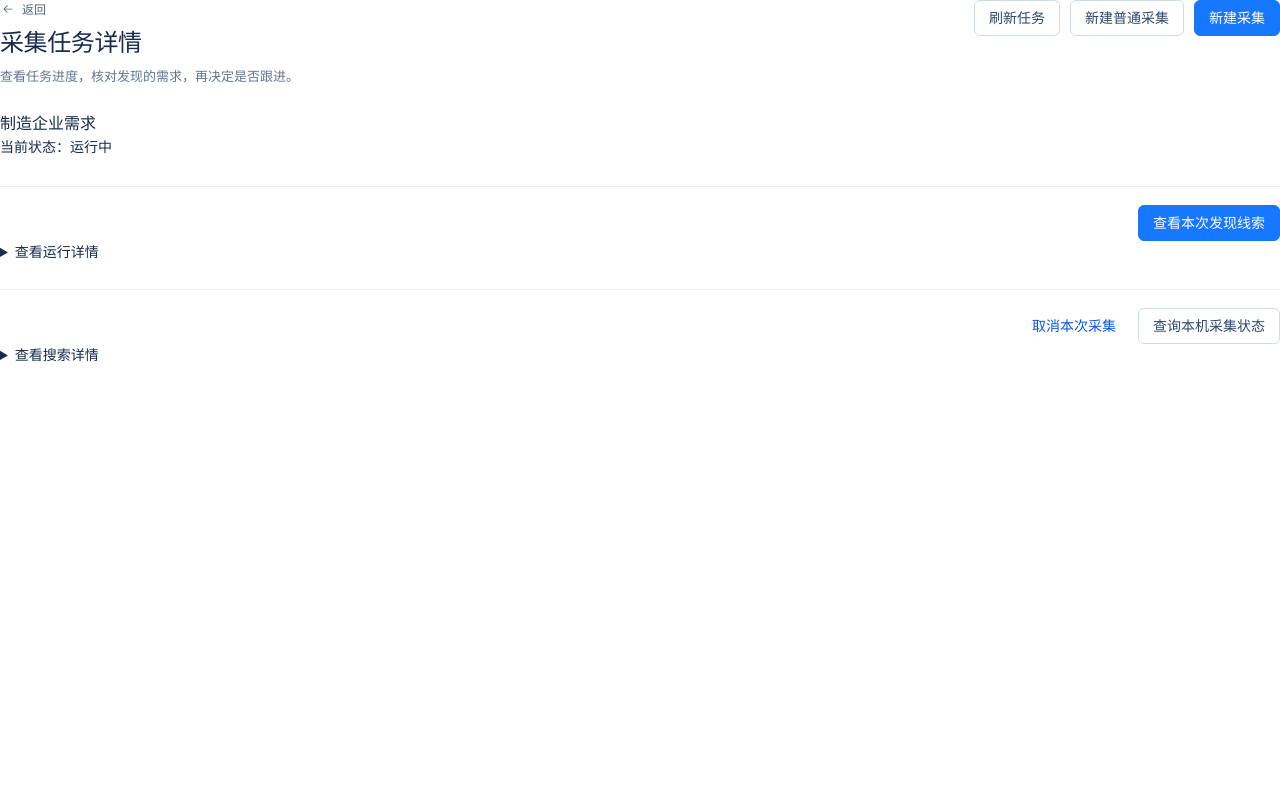
Scenario: never retries a missing original receipt or after device identity changes
Click the button "查询本机采集状态" at {"x": 1209, "y": 326}, box 1138,308 -> 1279,344
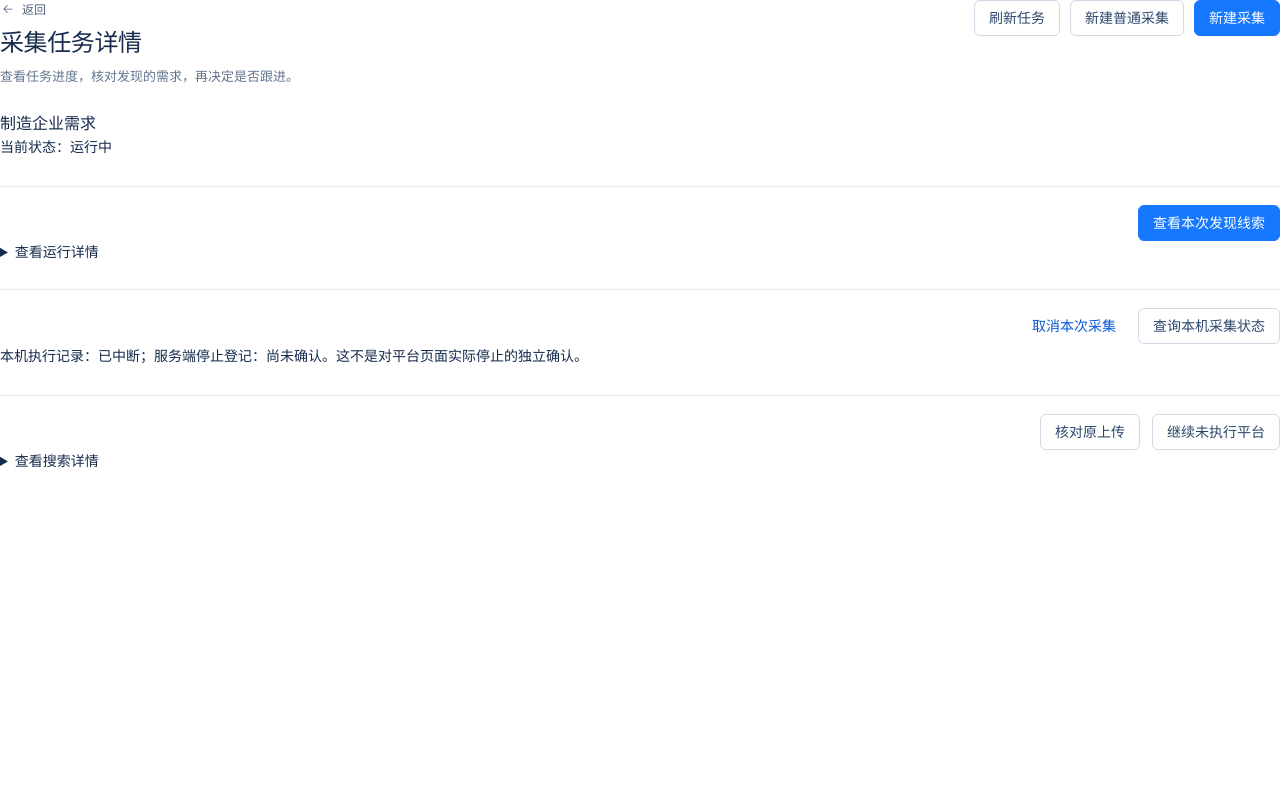
Click the button "继续未执行平台" at {"x": 1216, "y": 432}, box 1152,414 -> 1279,450
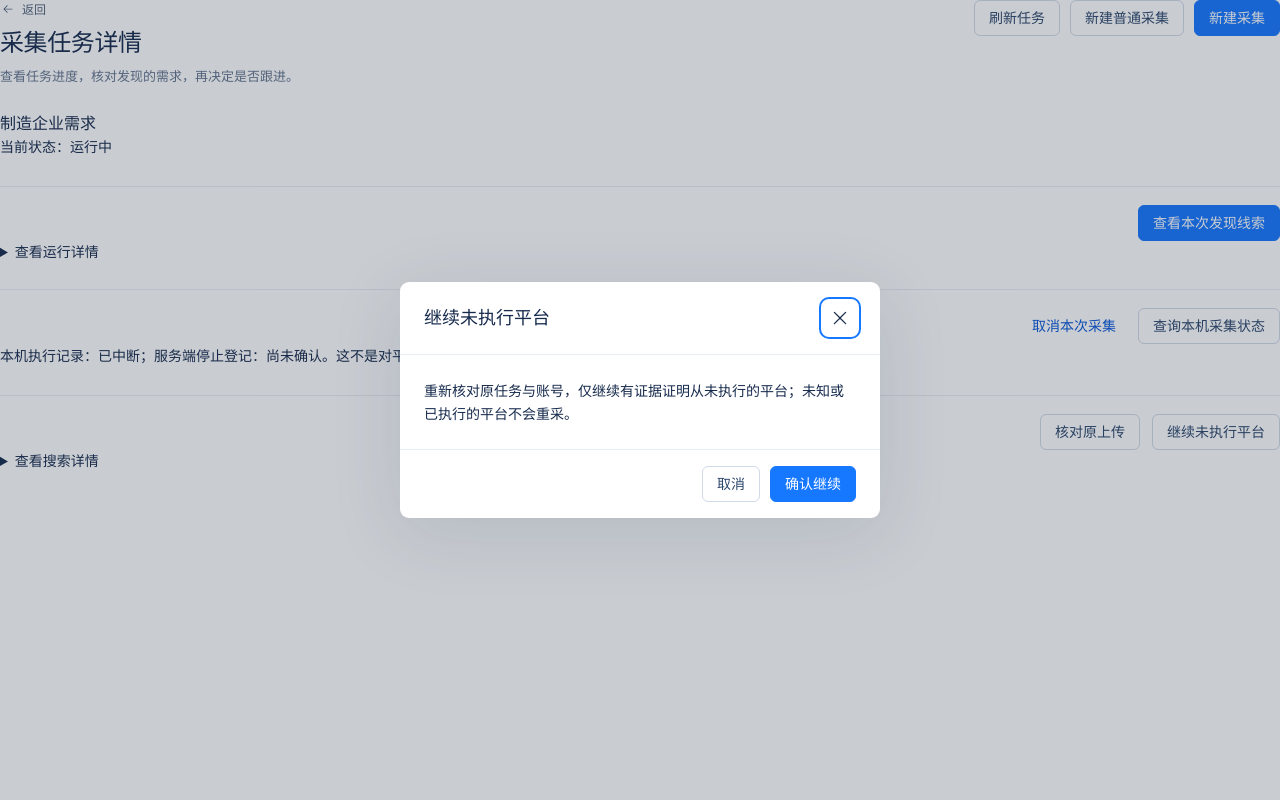
Click the button "确认继续" at {"x": 813, "y": 484}, box 770,466 -> 856,502
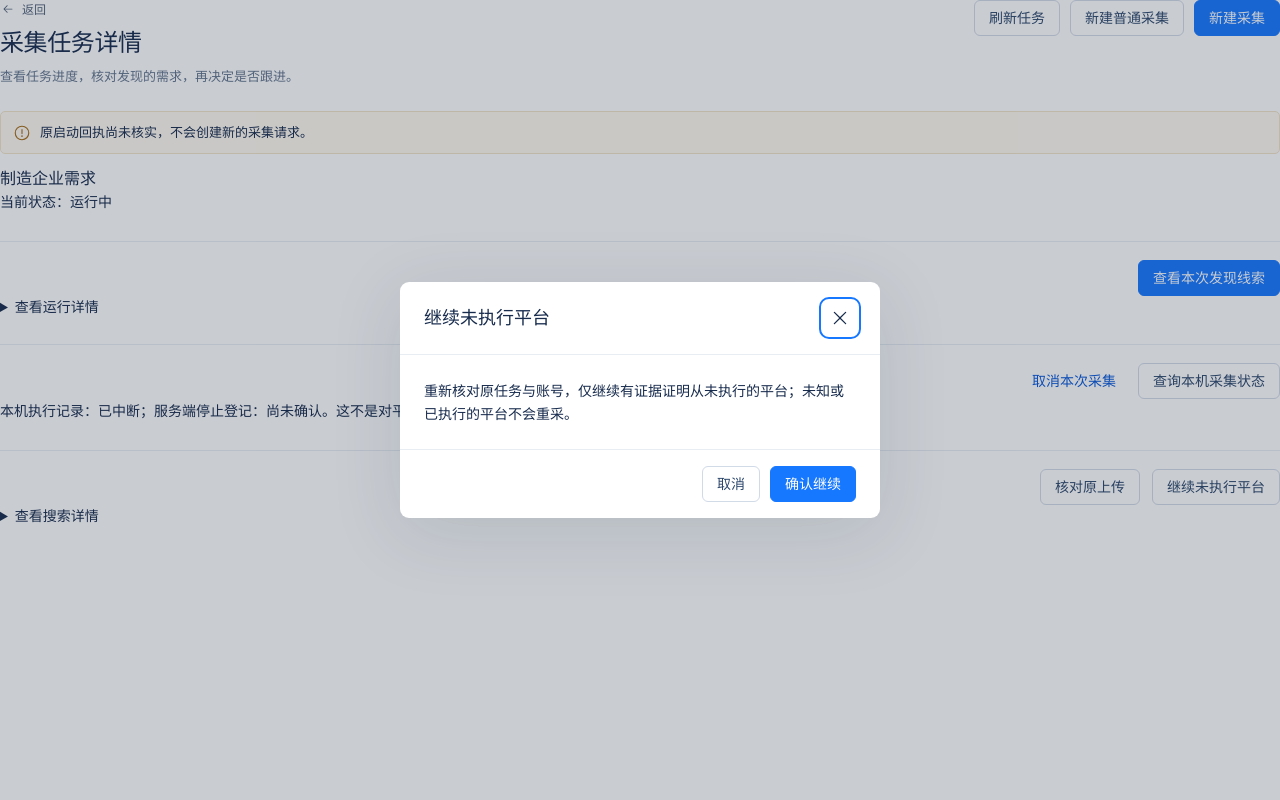
Result: the text "原启动回执尚未核实，不会创建新的采集请求。" is shown at 40,124 -> 313,140
Click the button "确认继续" at {"x": 813, "y": 484}, box 770,466 -> 856,502
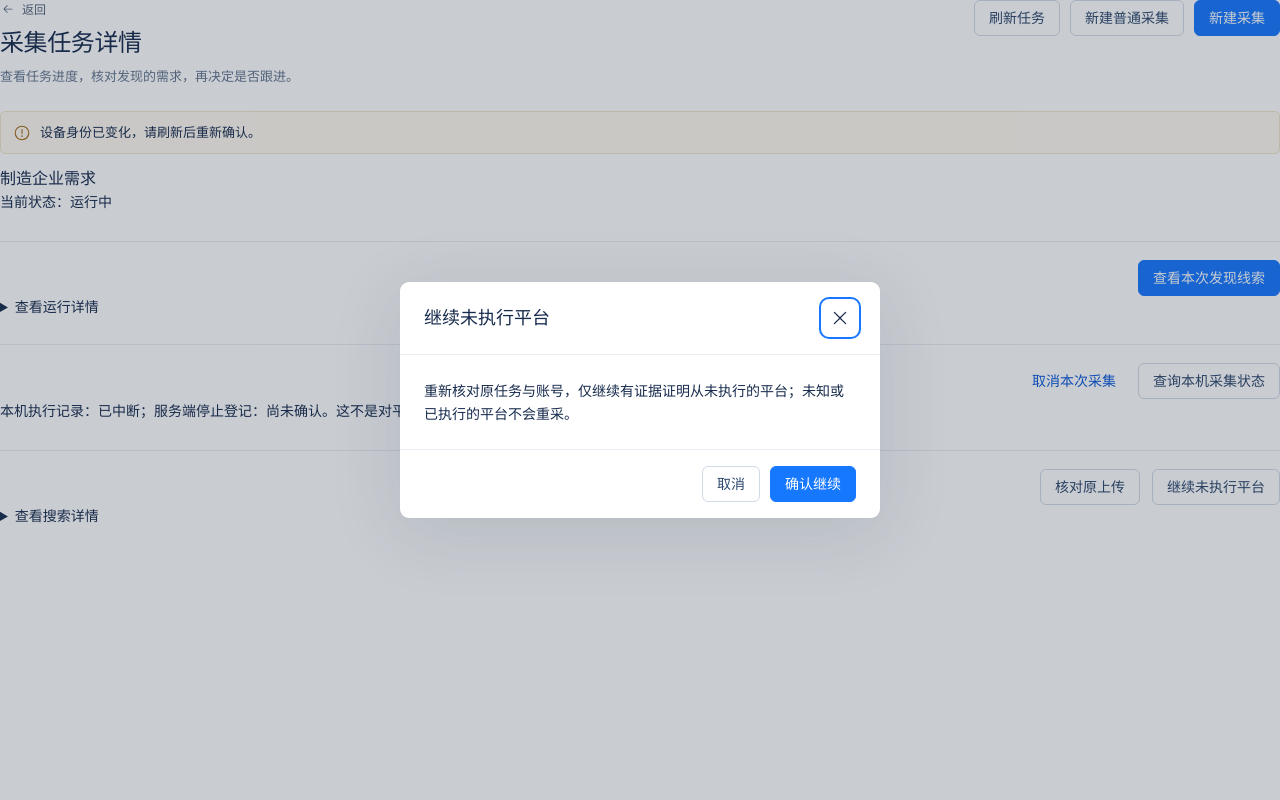
Result: the text "设备身份已变化，请刷新后重新确认。" is shown at 40,124 -> 261,140
